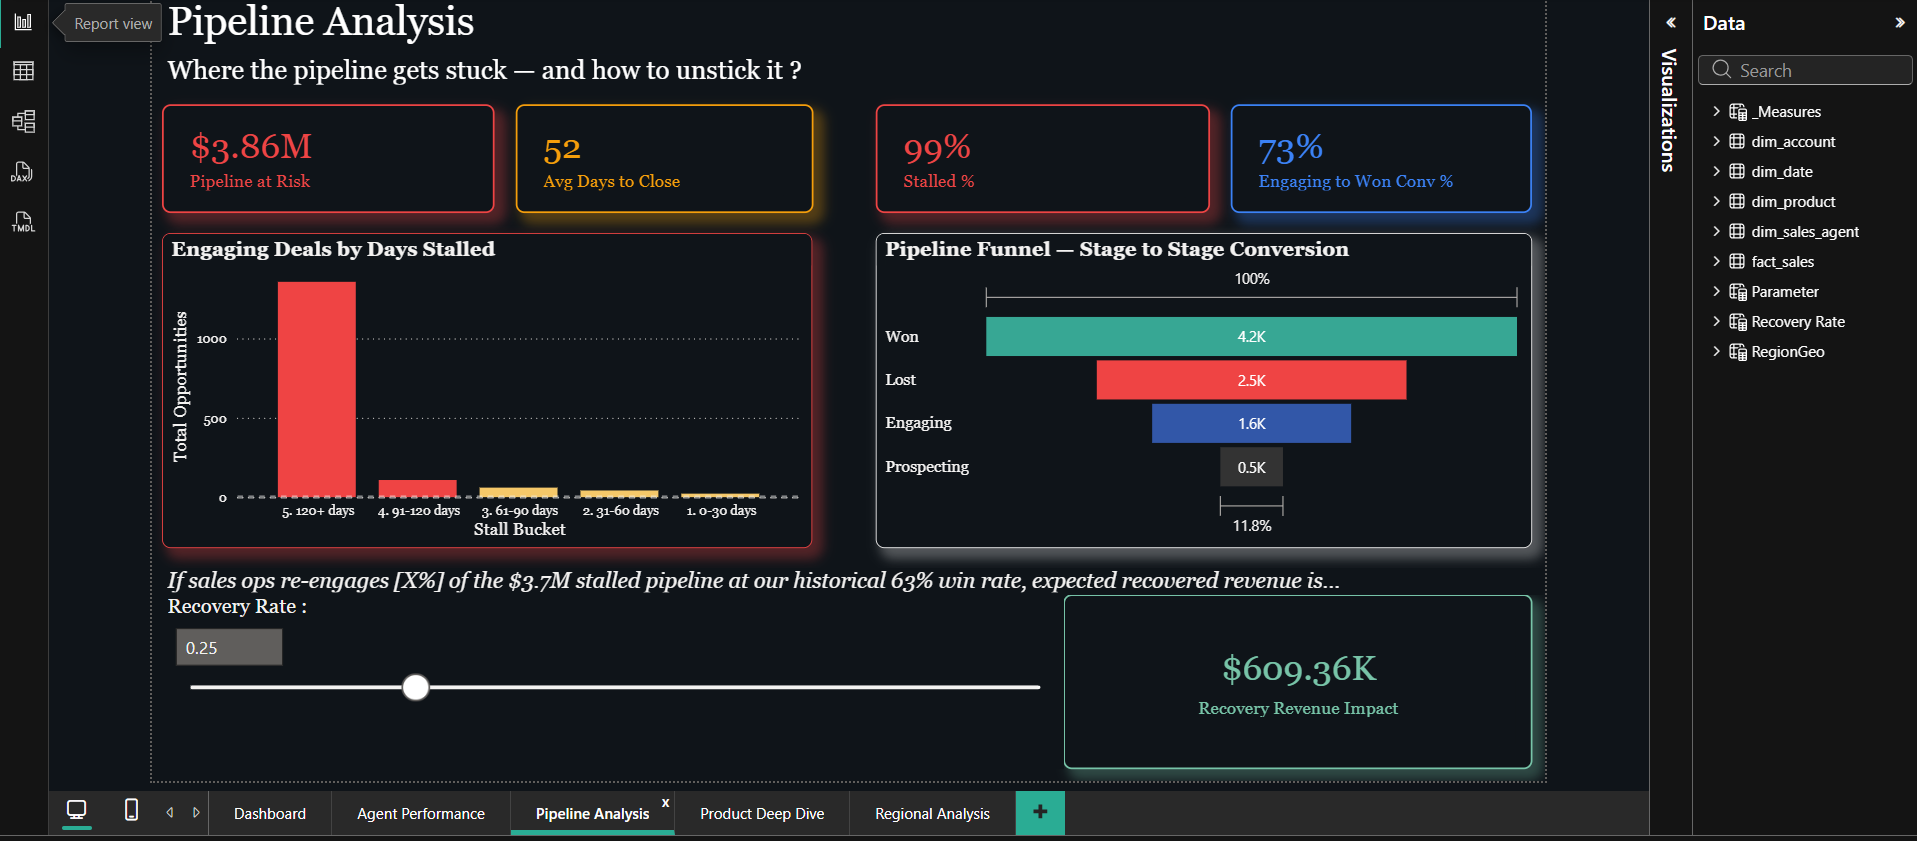

Layout of this report page (visuals, bound fields, positions):
{"tool":"powerbi","page":{"name":"Pipeline Analysis","canvas":[1280,720],"ordinal":2},"visuals":[{"type":"textbox","title":"Pipeline Analysis","box":[9.3,0,597.7,43],"z":0},{"type":"textbox","title":"Where the pipeline gets stuck — and how to unstick it ?","box":[9.3,51.2,630.2,31.4],"z":1000},{"type":"cardVisual","fields":{"Data":["_Measures.Pipeline at Risk"]},"box":[9.3,97.7,305.8,100],"z":2000},{"type":"cardVisual","fields":{"Data":["_Measures.Stalled %"]},"box":[665.1,97.7,307,100],"z":3000},{"type":"cardVisual","fields":{"Data":["_Measures.Avg Days to Close"]},"box":[333.7,97.7,273.3,100],"z":4000},{"type":"cardVisual","fields":{"Data":["_Measures.Engaging to Won Conv %"]},"box":[991.9,97.7,276.7,100],"z":5000},{"type":"clusteredColumnChart","title":"Engaging Deals by Days Stalled","fields":{"Y":["_Measures.Total Opportunities"],"Category":["fact_sales.Stall Bucket"]},"box":[9.3,216.3,597.7,289.5],"z":6000},{"type":"funnel","title":"Pipeline Funnel — Stage to Stage Conversion","fields":{"Category":["fact_sales.deal_stage"],"Y":["_Measures.Total Opportunities"]},"box":[665.1,216.3,603.5,289.5],"z":7000},{"type":"cardVisual","fields":{"Data":["_Measures.Recovery Revenue Impact"]},"box":[837.2,547.7,431.4,160.5],"z":8000},{"type":"textbox","title":"If sales ops re-engages [X%] of the $3.7M stalled pipeline at our historical 63% win rate, expected recovered revenue is...","box":[9.3,523.3,1269.8,24.4],"z":9000},{"type":"slicer","title":"Recovery Rate :","fields":{"Values":["Recovery Rate.Recovery Rate"]},"box":[9.3,547.7,827.9,160.5],"z":10000}]}

Visuals, with their boxes on the page's 1280x720 design canvas (x1, y1, x2, y2). These are canvas units, not pixel positions in the 1917x841 screenshot, which may show the page scaled, cropped or inside an application window:
"Pipeline Analysis" textbox: bbox=[9, 0, 607, 43]
"Where the pipeline gets stuck — and how to unstick it ?" textbox: bbox=[9, 51, 640, 83]
cardVisual - _Measures.Pipeline at Risk: bbox=[9, 98, 315, 198]
cardVisual - _Measures.Stalled %: bbox=[665, 98, 972, 198]
cardVisual - _Measures.Avg Days to Close: bbox=[334, 98, 607, 198]
cardVisual - _Measures.Engaging to Won Conv %: bbox=[992, 98, 1269, 198]
"Engaging Deals by Days Stalled" clusteredColumnChart: bbox=[9, 216, 607, 506]
"Pipeline Funnel — Stage to Stage Conversion" funnel: bbox=[665, 216, 1269, 506]
cardVisual - _Measures.Recovery Revenue Impact: bbox=[837, 548, 1269, 708]
"If sales ops re-engages [X%] of the $3.7M stalled pipeline at our historical 63% win rate, expected recovered revenue is..." textbox: bbox=[9, 523, 1279, 548]
"Recovery Rate :" slicer: bbox=[9, 548, 837, 708]
